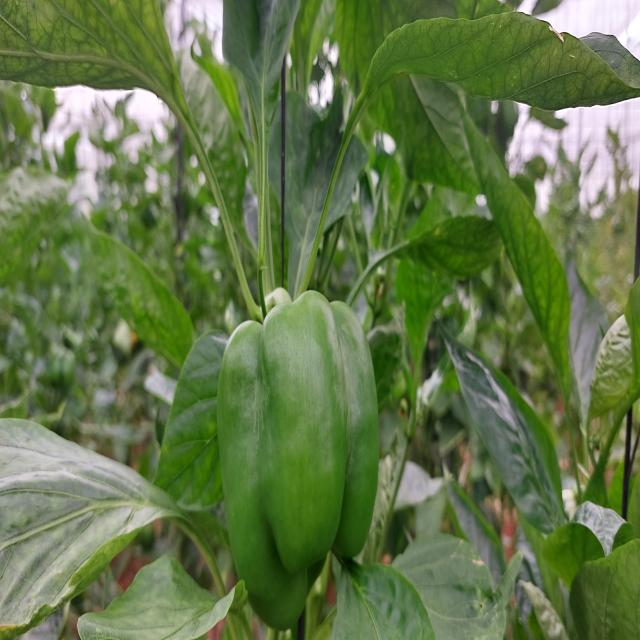Green--Not-ready-to-harvest: (217, 306, 380, 636)
